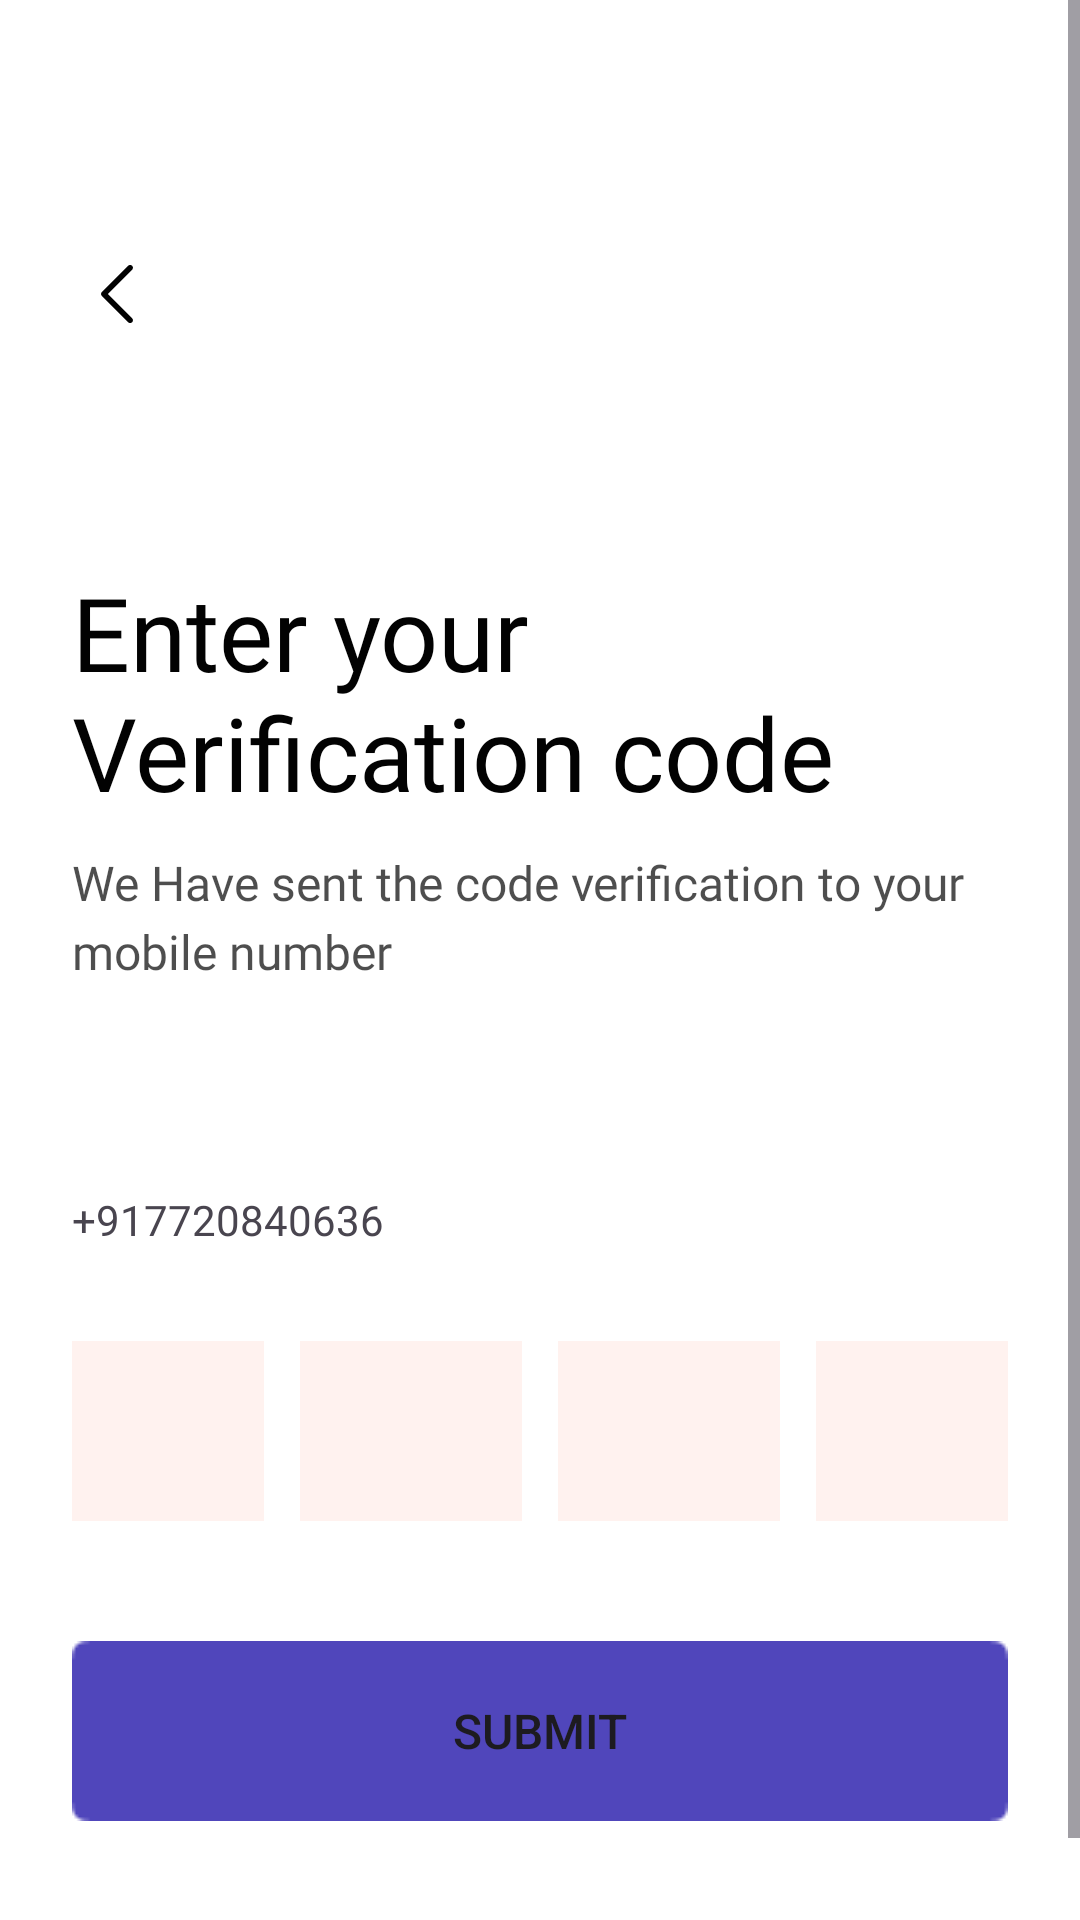

Screen size 1080×1920. Icon name, then its box in pixels as bbox(x1, y1, x2, y2):
arrow left: bbox(101, 265, 133, 323)
